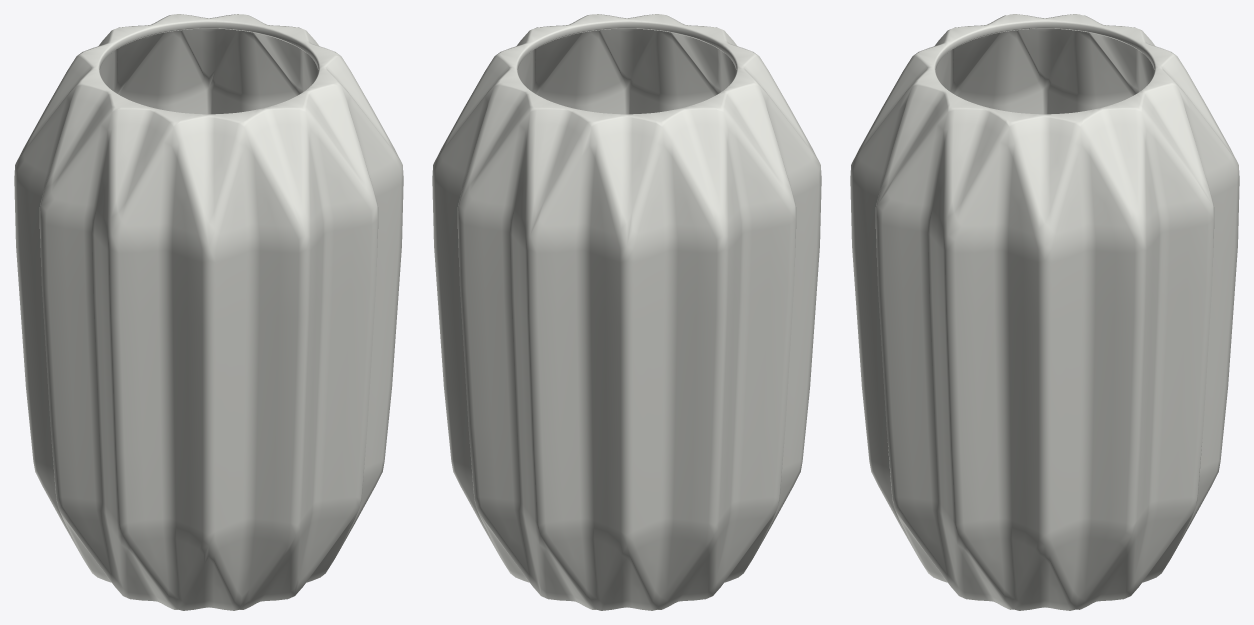
Rendered from B075HXLWTN.glb.
The picture shows the model from 3 angles, left to right: view 1: azimuth 30°, elevation 25°; view 2: azimuth 150°, elevation 25°; view 3: azimuth 270°, elevation 25°; orthographic projection.
Visible parts, largest first — view 1: RootNode; view 2: RootNode; view 3: RootNode.
Boxes of the visible parts, left/top/right/bottom form: RootNode: left=14, top=14, right=403, bottom=610; RootNode: left=432, top=14, right=821, bottom=610; RootNode: left=850, top=14, right=1239, bottom=610.
Size of the model in its own units: 0.1947 by 0.2745 by 0.1947.
1 material, 1 textured.
